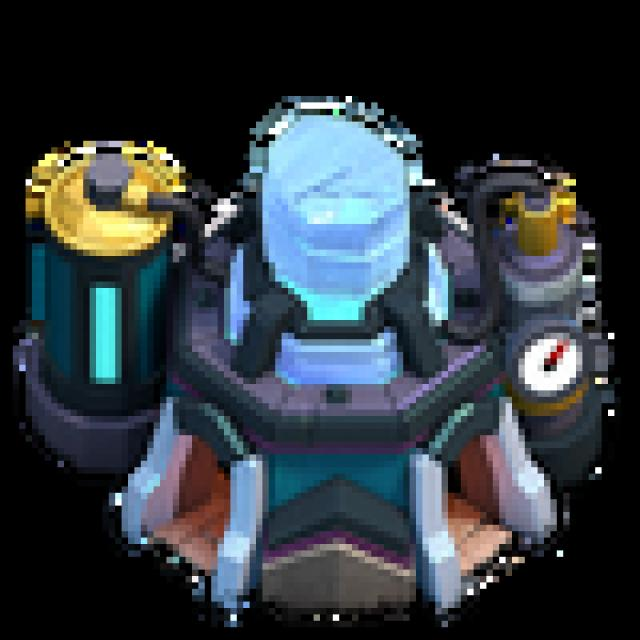laboratory: (22, 96, 632, 640)
